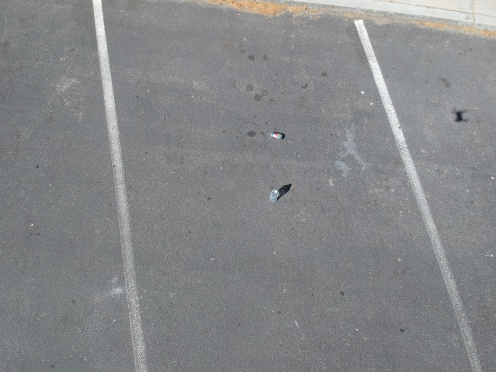bottle: (265, 184, 280, 205)
can: (268, 127, 287, 143)
